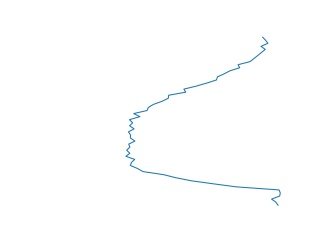underwaterDistributaryChannel: (122, 35, 285, 208)
